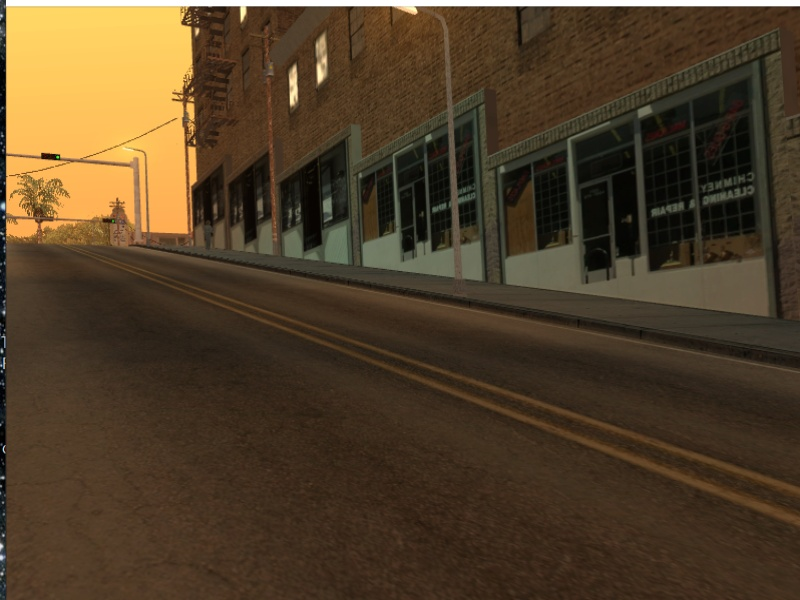pole: (438, 19, 469, 297), (261, 34, 281, 256), (129, 156, 143, 249)
